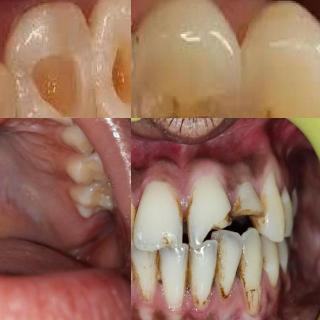Gum Swelling: (131, 161, 260, 214), (131, 276, 252, 319)
cavities: (143, 46, 221, 118), (26, 47, 94, 118), (101, 2, 131, 118), (259, 83, 320, 118)
maligned: (210, 228, 244, 300)
stains: (187, 183, 230, 245), (238, 243, 264, 316), (162, 187, 187, 248), (214, 248, 232, 306), (232, 195, 262, 224), (182, 245, 198, 295), (146, 249, 166, 287), (251, 188, 270, 228), (195, 288, 212, 310), (131, 252, 135, 288)
